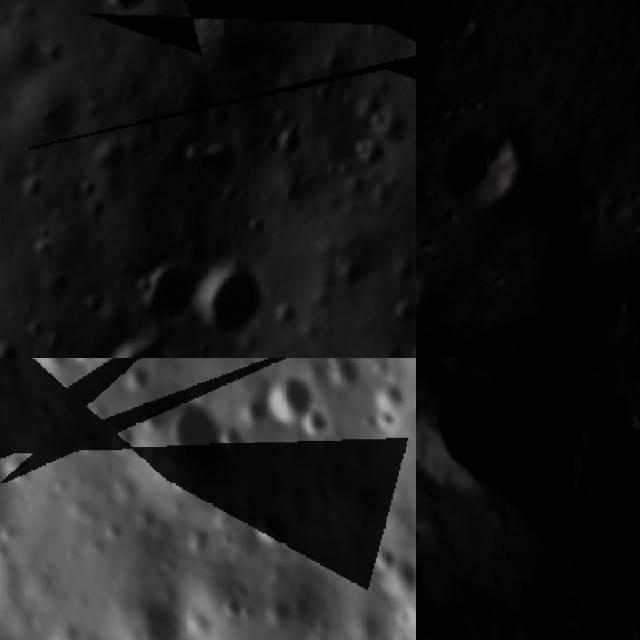crater: (416, 92, 550, 234), (416, 358, 525, 517), (559, 386, 640, 524), (542, 257, 640, 358), (158, 394, 230, 492), (200, 255, 266, 348), (416, 10, 470, 108), (139, 261, 200, 324), (260, 364, 314, 429), (428, 0, 489, 57), (180, 136, 240, 187), (548, 191, 600, 243), (97, 329, 171, 358), (172, 86, 215, 134), (252, 504, 293, 550), (321, 358, 363, 400), (179, 234, 218, 277), (91, 0, 156, 21), (386, 292, 416, 332), (120, 358, 152, 395), (215, 419, 246, 456), (366, 542, 399, 574), (513, 616, 554, 640), (301, 410, 326, 443), (361, 0, 406, 18), (628, 608, 640, 640), (70, 358, 101, 367)
